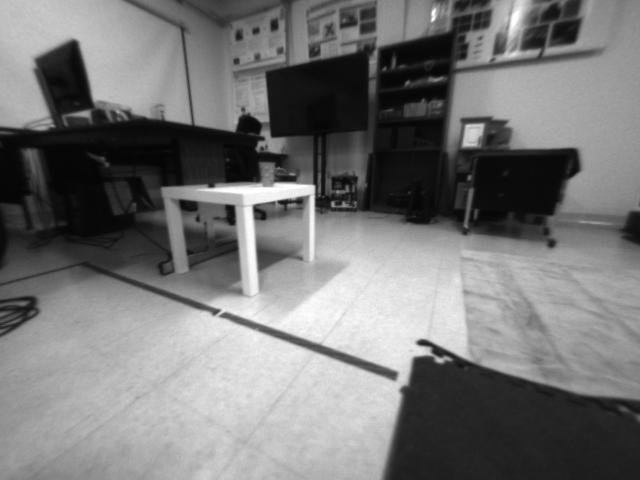coffee_cup: (256, 159, 278, 185)
